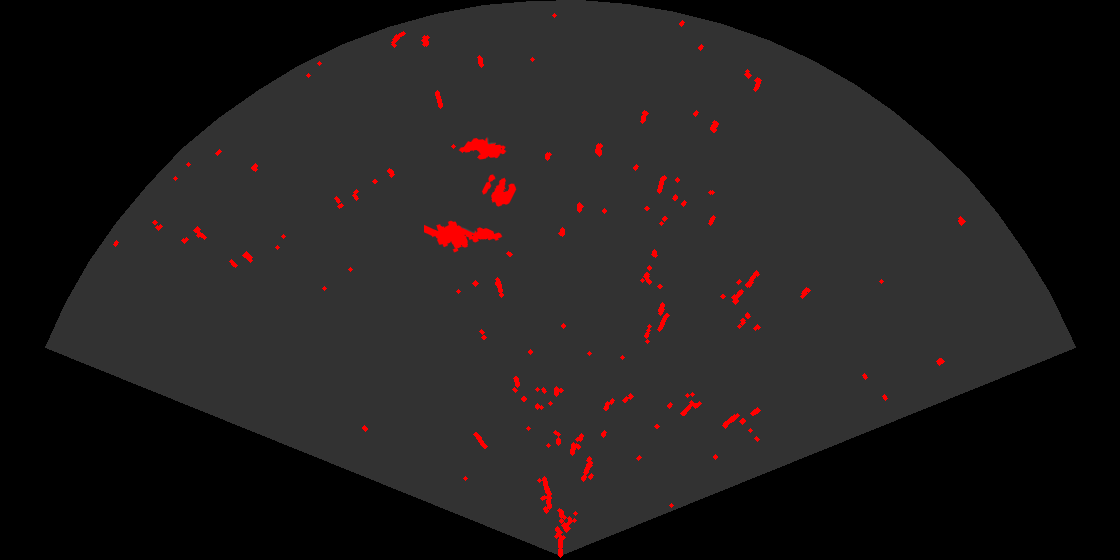AUV: (457, 136, 508, 161)
ball: (480, 173, 518, 208)
frogman: (424, 219, 504, 254)
